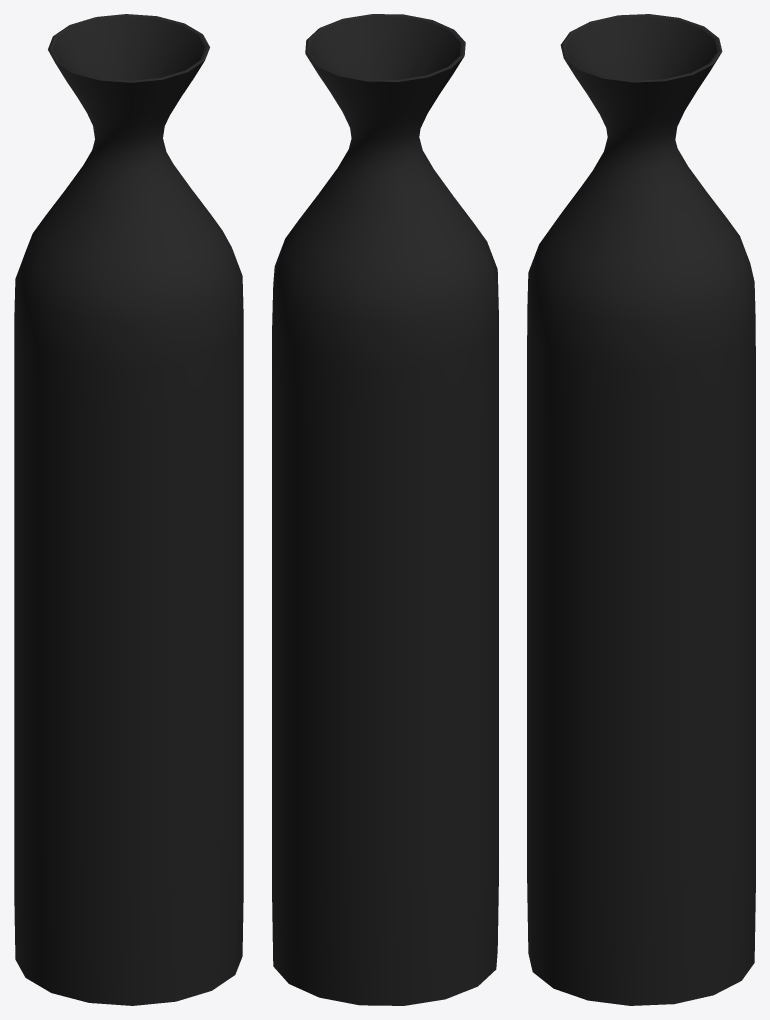
File: GlassFront001.FBX
3 views of the same model, side by side, from view 1: azimuth 30°, elevation 25°; view 2: azimuth 150°, elevation 25°; view 3: azimuth 270°, elevation 25° (orthographic).
Visible parts, largest first — view 1: GlassFront001; view 2: GlassFront001; view 3: GlassFront001.
Boxes of the visible parts, bbox=[...] form: GlassFront001: bbox=[14, 14, 243, 1005]; GlassFront001: bbox=[272, 14, 498, 1005]; GlassFront001: bbox=[527, 14, 755, 1005].
Bounding box in the file's own units: 0.2031 × 0.8927 × 0.2031.
Materials: 1 (1 with a texture image).
